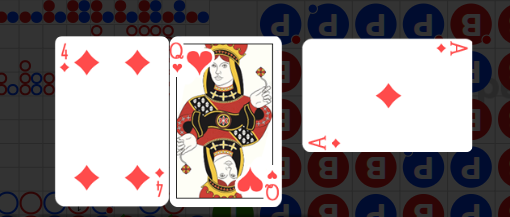4D: (154, 166, 165, 198)
AD: (308, 133, 343, 150), (434, 41, 468, 58)
